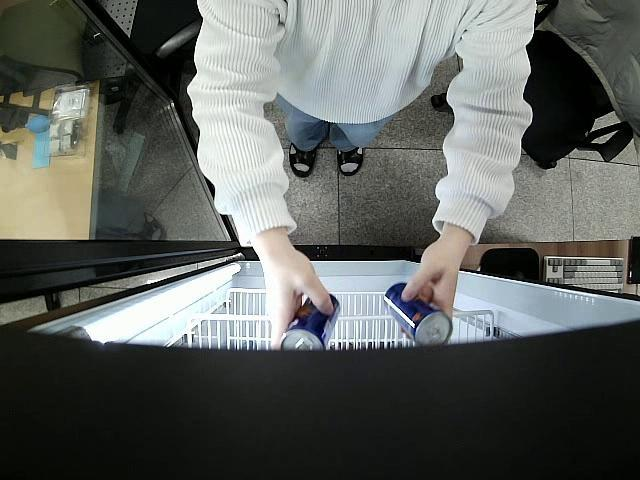16_hot6: (383, 282, 452, 346), (279, 290, 340, 351)
